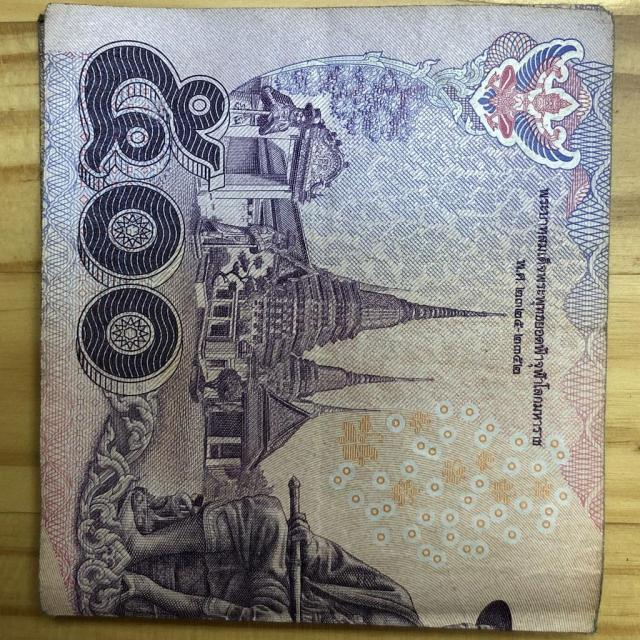THAI500: (39, 4, 614, 632)
